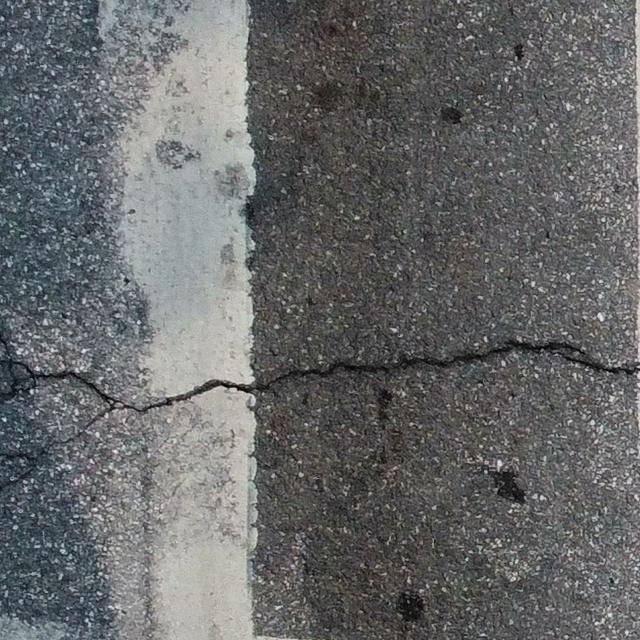TransverseCrack: (1, 338, 640, 486)
